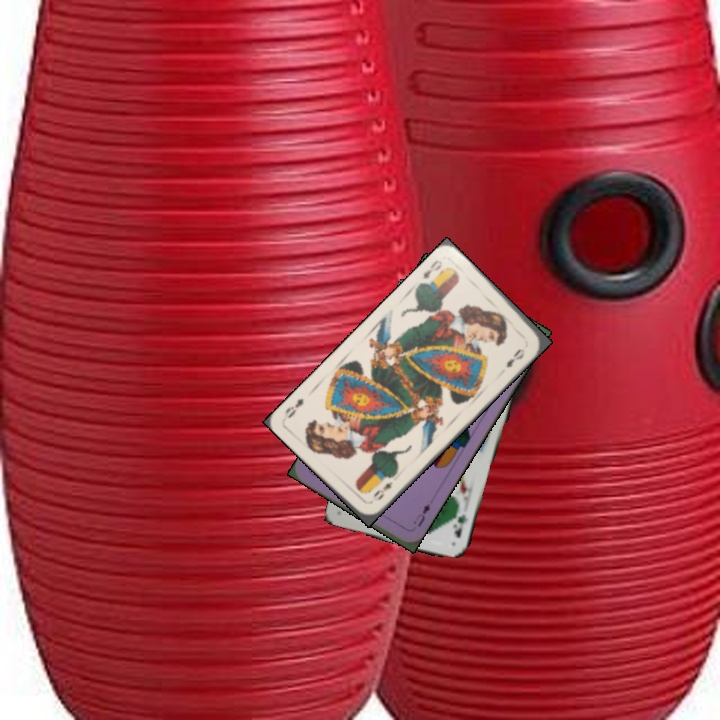EO: (369, 477, 395, 503), (419, 256, 445, 282)
EU: (409, 500, 433, 529)
GK: (450, 510, 471, 540)
